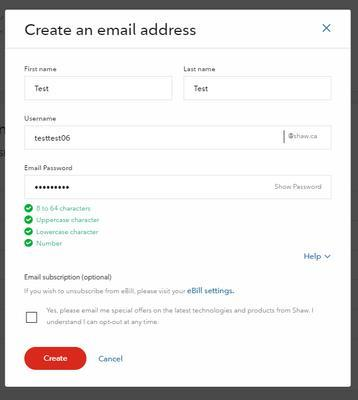button: (24, 348, 87, 371)
checkbox: (27, 313, 38, 324)
icon: (319, 21, 337, 37)
input: (25, 127, 334, 151), (26, 176, 332, 200), (184, 76, 331, 100), (25, 78, 173, 100)
label: (46, 305, 319, 329), (24, 22, 202, 44), (25, 271, 117, 286), (21, 160, 79, 175), (19, 62, 60, 77), (181, 64, 221, 75), (97, 352, 127, 366), (24, 114, 60, 124)
